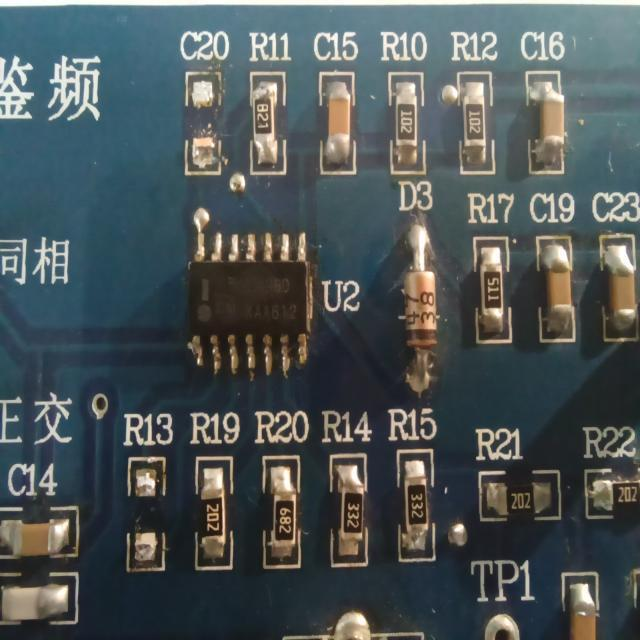Missing component: (170, 12, 237, 202), (115, 412, 175, 579)
